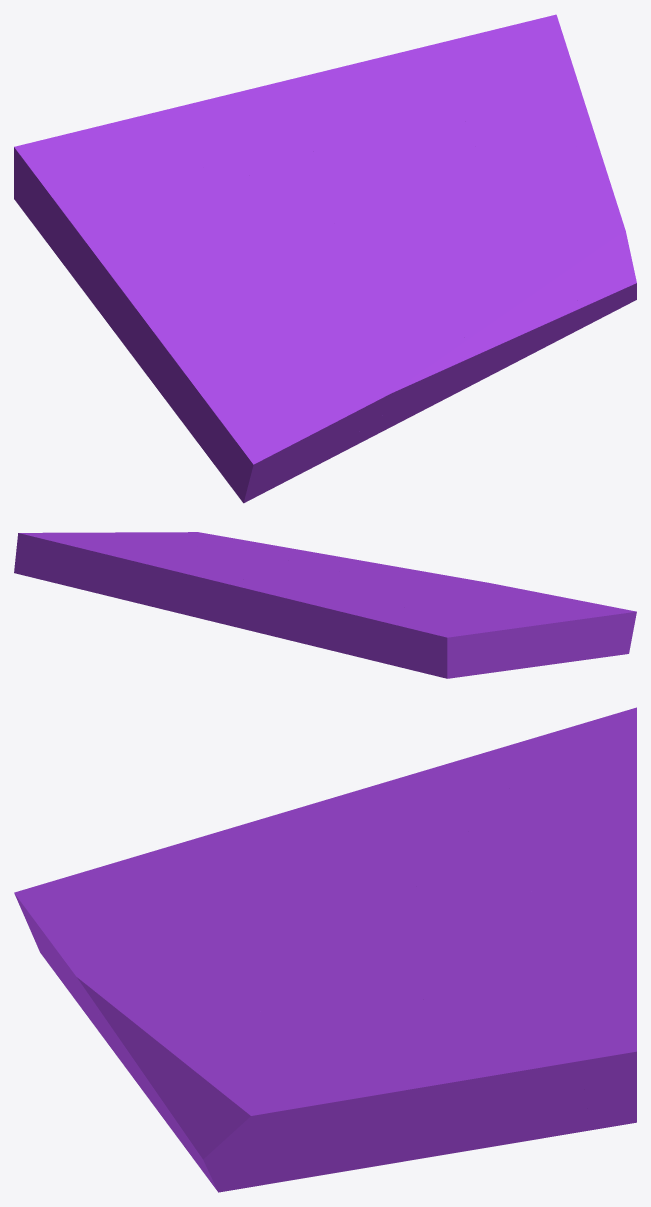
The model's file is Window_163_0_chunks.fbx.
3 views of the same model, one above another, from view 1: azimuth 30°, elevation 25°; view 2: azimuth 150°, elevation 25°; view 3: azimuth 270°, elevation 25° (orthographic). The views are drawn at different scales.
Parts seen in each view (by area): view 1: Window_163_0_4, Window_163_0_6, Window_163_0_5, Window_163_0_1, Window_163_0_9, Window_163_0_2, Window_163_0_16, Window_163_0_19, Window_163_0_26, Window_163_0_11, Window_163_0_18, Window_163_0_23 (+8 smaller); view 2: Window_163_0_4, Window_163_0_9, Window_163_0_18, Window_163_0_16, Window_163_0_6, Window_163_0_11, Window_163_0_5, Window_163_0_1, Window_163_0_19, Window_163_0_23, Window_163_0_2, Window_163_0_20 (+8 smaller); view 3: Window_163_0_4, Window_163_0_6, Window_163_0_5, Window_163_0_1, Window_163_0_24, Window_163_0_25, Window_163_0_16, Window_163_0_9, Window_163_0_2, Window_163_0_26, Window_163_0_19, Window_163_0_11 (+10 smaller).
Part boxes in pixels (x1,y1,x2,y2): Window_163_0_4: (41,183,314,404); Window_163_0_6: (169,345,422,503); Window_163_0_5: (306,219,468,388); Window_163_0_1: (297,113,504,232); Window_163_0_9: (14,109,205,246); Window_163_0_2: (414,257,582,371); Window_163_0_16: (402,14,566,110); Window_163_0_19: (281,73,477,151); Window_163_0_26: (522,203,636,328); Window_163_0_11: (168,98,312,188); Window_163_0_18: (214,52,411,133); Window_163_0_23: (439,46,567,191); Window_163_0_4: (362,589,580,674); Window_163_0_9: (315,604,476,678); Window_163_0_18: (129,562,289,633); Window_163_0_16: (15,532,155,600); Window_163_0_6: (460,578,636,661); Window_163_0_11: (262,584,361,646); Window_163_0_5: (324,566,454,591); Window_163_0_1: (147,547,363,590); Window_163_0_19: (152,552,288,588); Window_163_0_23: (44,532,253,562); Window_163_0_2: (289,548,394,571); Window_163_0_20: (236,552,340,572); Window_163_0_4: (197,728,565,917); Window_163_0_6: (14,838,207,1014); Window_163_0_5: (92,905,398,1027); Window_163_0_1: (340,899,508,1026); Window_163_0_24: (332,1048,589,1147); Window_163_0_25: (234,1099,485,1189); Window_163_0_16: (498,953,636,1101); Window_163_0_9: (492,707,636,834); Window_163_0_2: (120,980,290,1156); Window_163_0_26: (175,1047,334,1192); Window_163_0_19: (496,881,598,1007); Window_163_0_11: (450,805,636,903).
Size of the model in its own units: 1104 by 363 by 836.
